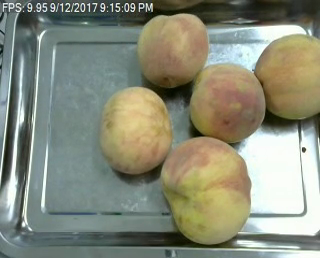Peach: (161, 134, 252, 245), (99, 86, 172, 175), (188, 62, 266, 143), (136, 11, 210, 88), (255, 32, 320, 118)
